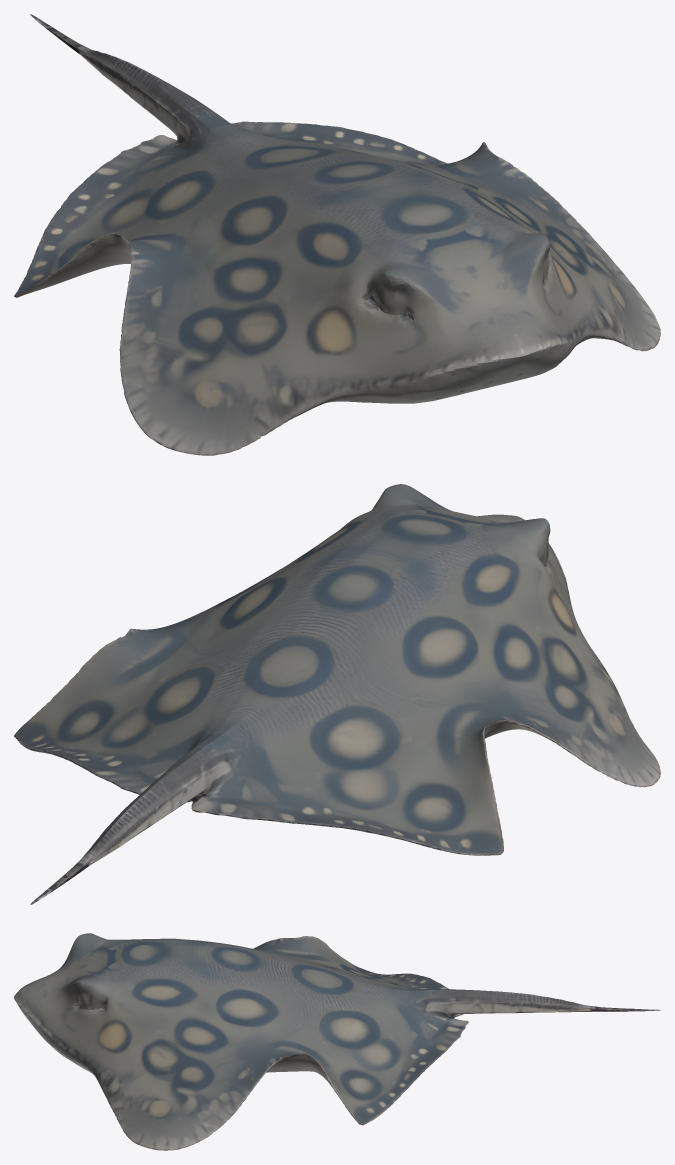
File: n2__motoro.glb
3 views of the same model, one above another, from view 1: azimuth 30°, elevation 25°; view 2: azimuth 150°, elevation 25°; view 3: azimuth 270°, elevation 25° (orthographic). The views are drawn at different scales.
Parts seen in each view (by area): view 1: model_0; view 2: model_0; view 3: model_0.
Part boxes in pixels (left/top/right/bottom): model_0: left=14, top=14, right=660, bottom=455; model_0: left=14, top=484, right=660, bottom=904; model_0: left=14, top=933, right=660, bottom=1150.
Size of the model in its own units: 1.13 by 0.3924 by 1.9.
1 material, 1 textured.
